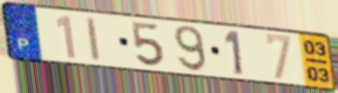1: (222, 30, 246, 78), (55, 14, 77, 61)
5: (129, 20, 166, 68)
7: (264, 31, 295, 82)
9: (171, 24, 209, 73)
I: (85, 15, 102, 64)
